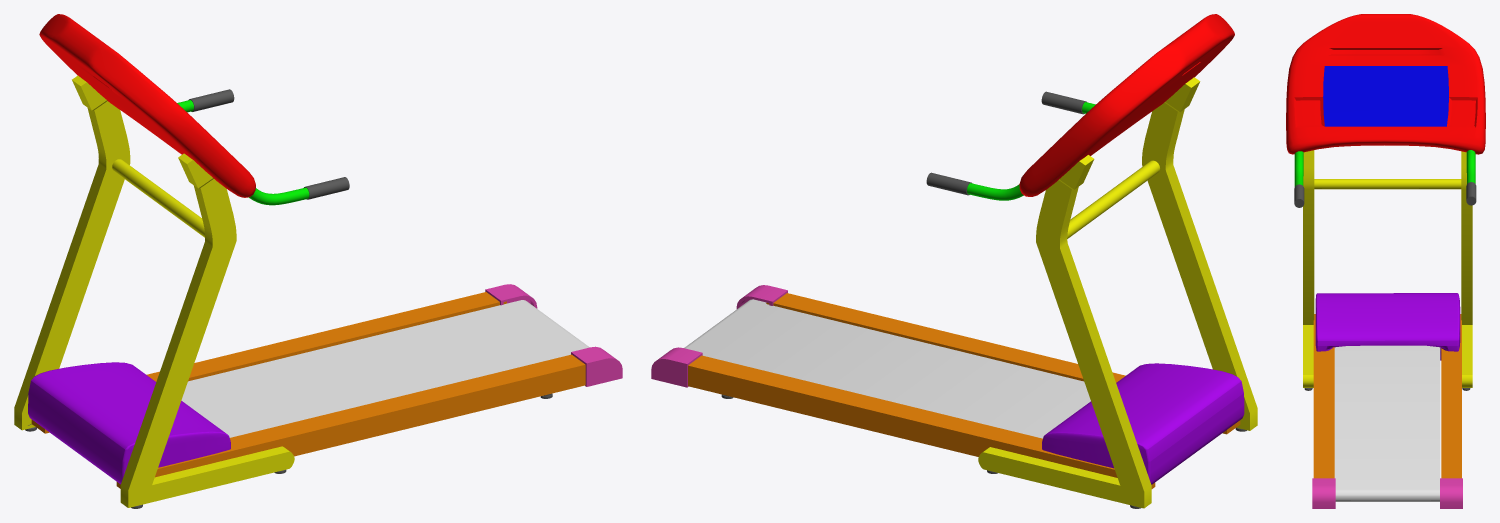
File: exercise_machine.fbx
3 views of the same model, side by side, from view 1: azimuth 30°, elevation 25°; view 2: azimuth 150°, elevation 25°; view 3: azimuth 270°, elevation 25° (orthographic). The views are drawn at different scales.
Visible parts, largest first — view 1: Supporting_Rods, polySurface83, polySurface88, polySurface79, Front_Screen, polySurface81, polySurface80, extrudedSurface2; view 2: Supporting_Rods, polySurface83, polySurface88, polySurface81, Front_Screen, polySurface79, polySurface82, extrudedSurface1; view 3: Front_Screen, polySurface83, polySurface88, Supporting_Rods, polySurface79, polySurface81, polySurface80, polySurface82, extrudedSurface2, extrudedSurface1, pCylinder8.
Part boxes in pixels (bbox=[...]): Supporting_Rods: bbox=[14, 75, 294, 507]; polySurface83: bbox=[181, 300, 589, 437]; polySurface88: bbox=[28, 362, 230, 484]; polySurface79: bbox=[116, 354, 585, 488]; Front_Screen: bbox=[39, 14, 255, 197]; polySurface81: bbox=[31, 292, 506, 433]; polySurface80: bbox=[571, 346, 622, 386]; extrudedSurface2: bbox=[248, 187, 309, 205]; Supporting_Rods: bbox=[978, 77, 1257, 508]; polySurface83: bbox=[684, 299, 1090, 438]; polySurface88: bbox=[1042, 363, 1244, 484]; polySurface81: bbox=[688, 355, 1155, 488]; Front_Screen: bbox=[1019, 14, 1234, 196]; polySurface79: bbox=[766, 293, 1240, 434]; polySurface82: bbox=[651, 347, 702, 387]; extrudedSurface1: bbox=[967, 183, 1023, 200]; Front_Screen: bbox=[1286, 14, 1485, 154]; polySurface83: bbox=[1334, 345, 1440, 501]; polySurface88: bbox=[1315, 293, 1460, 360]; Supporting_Rods: bbox=[1303, 150, 1472, 387]; polySurface79: bbox=[1313, 314, 1334, 478]; polySurface81: bbox=[1441, 314, 1461, 478]; polySurface80: bbox=[1312, 478, 1335, 508]; polySurface82: bbox=[1440, 478, 1462, 508]; extrudedSurface2: bbox=[1294, 151, 1303, 186]; extrudedSurface1: bbox=[1466, 150, 1475, 183]; pCylinder8: bbox=[1466, 182, 1476, 205].
Bounding box in the file's own units: 27.25 × 22.54 × 12.62.
